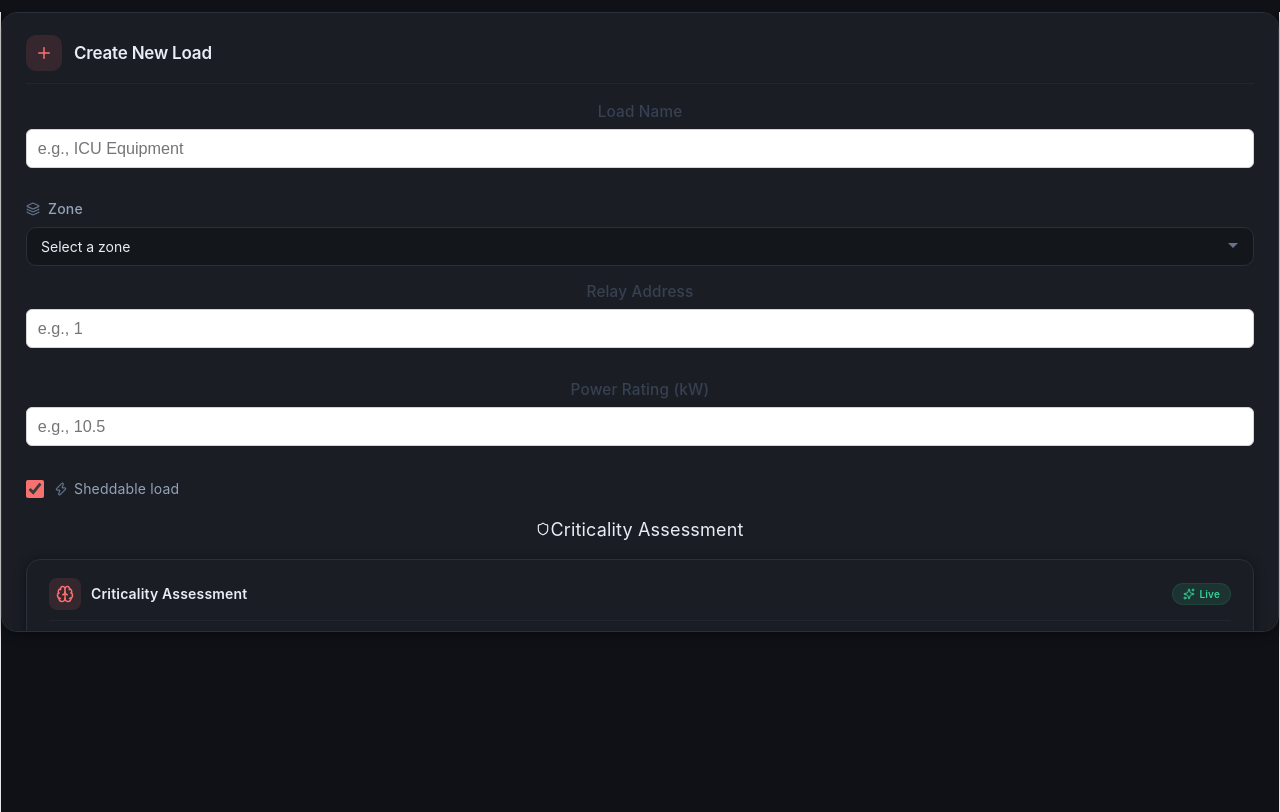
Scenario: LoadForm error handling › renders the conflicting load's name on relay conflict (409)
Type "New Load" into the field with test id "load-name" at coordinates (640, 148), box 26,129 -> 1254,168
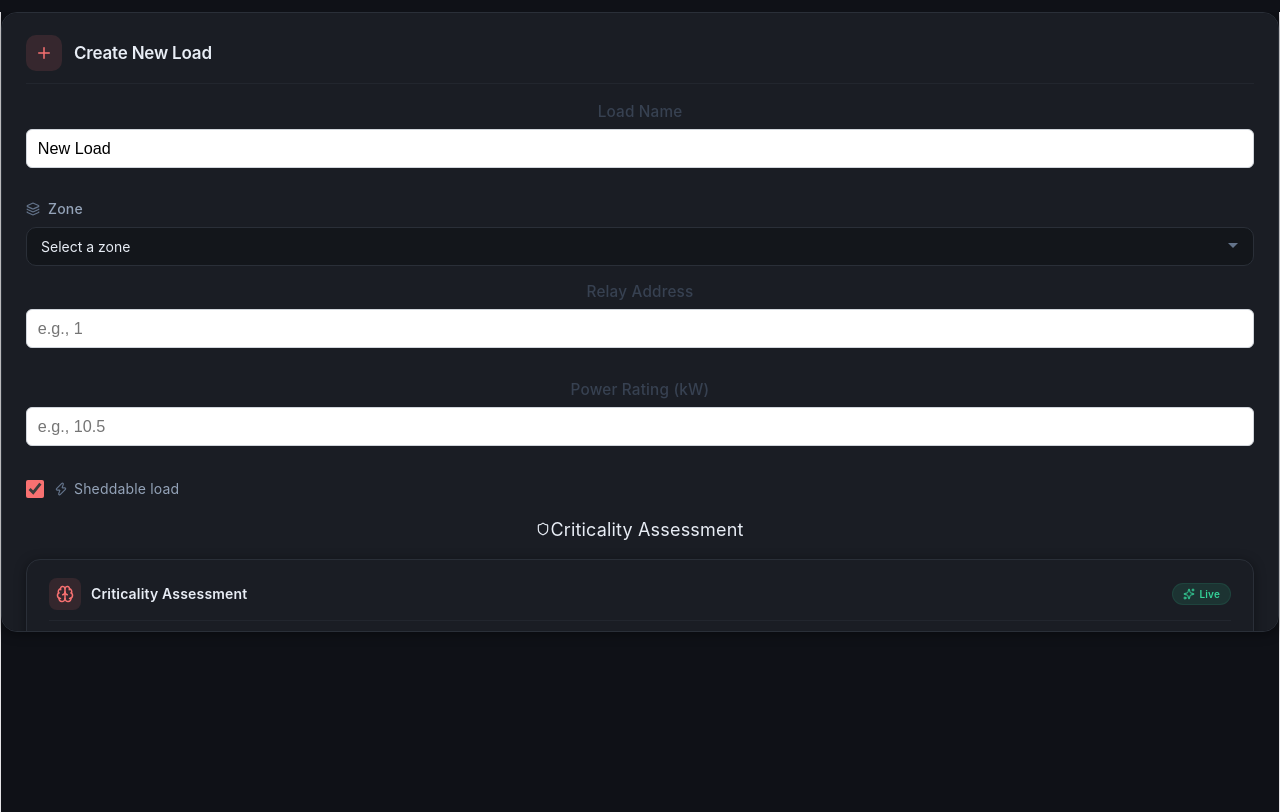
Select "Main Building" in the dropdown with test id "load-zone" at coordinates (640, 246), box 26,226 -> 1254,266
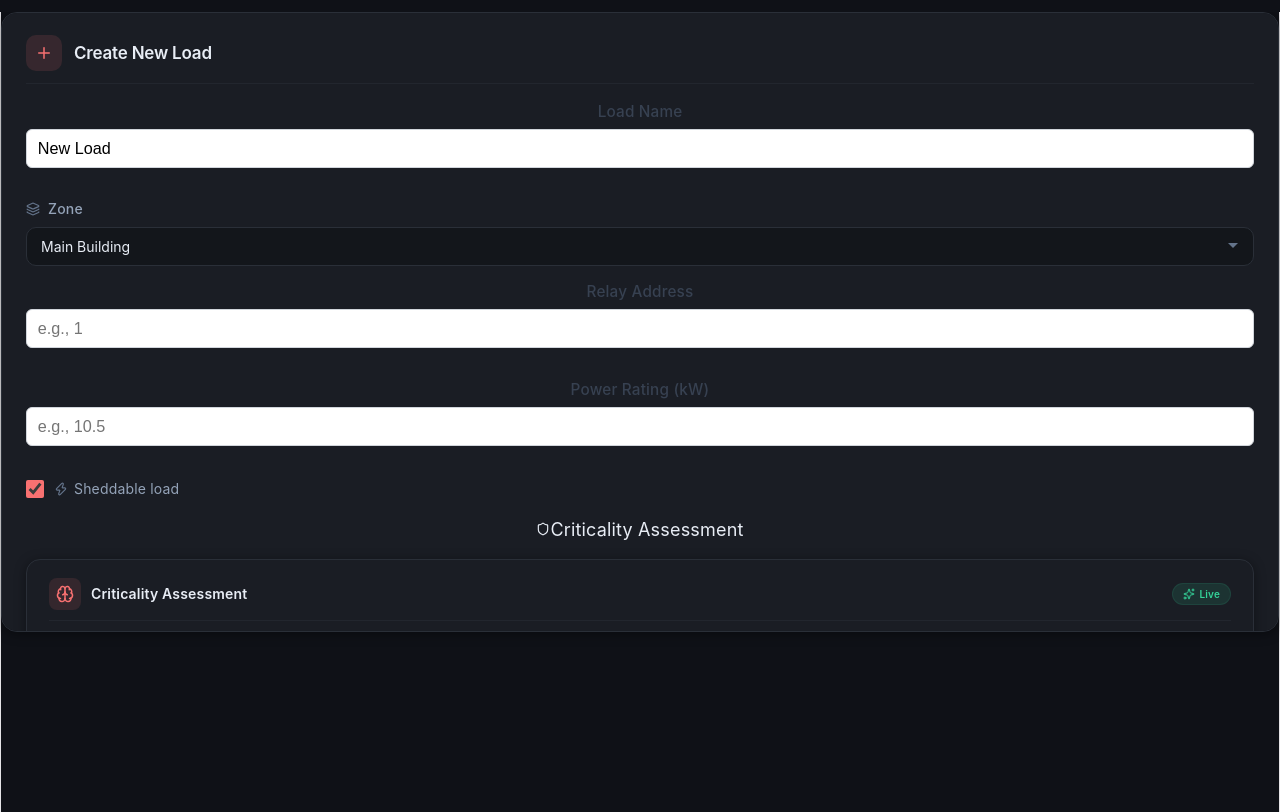
Type "3" into the number field with test id "load-relay-address" at coordinates (640, 328), box 26,308 -> 1254,348
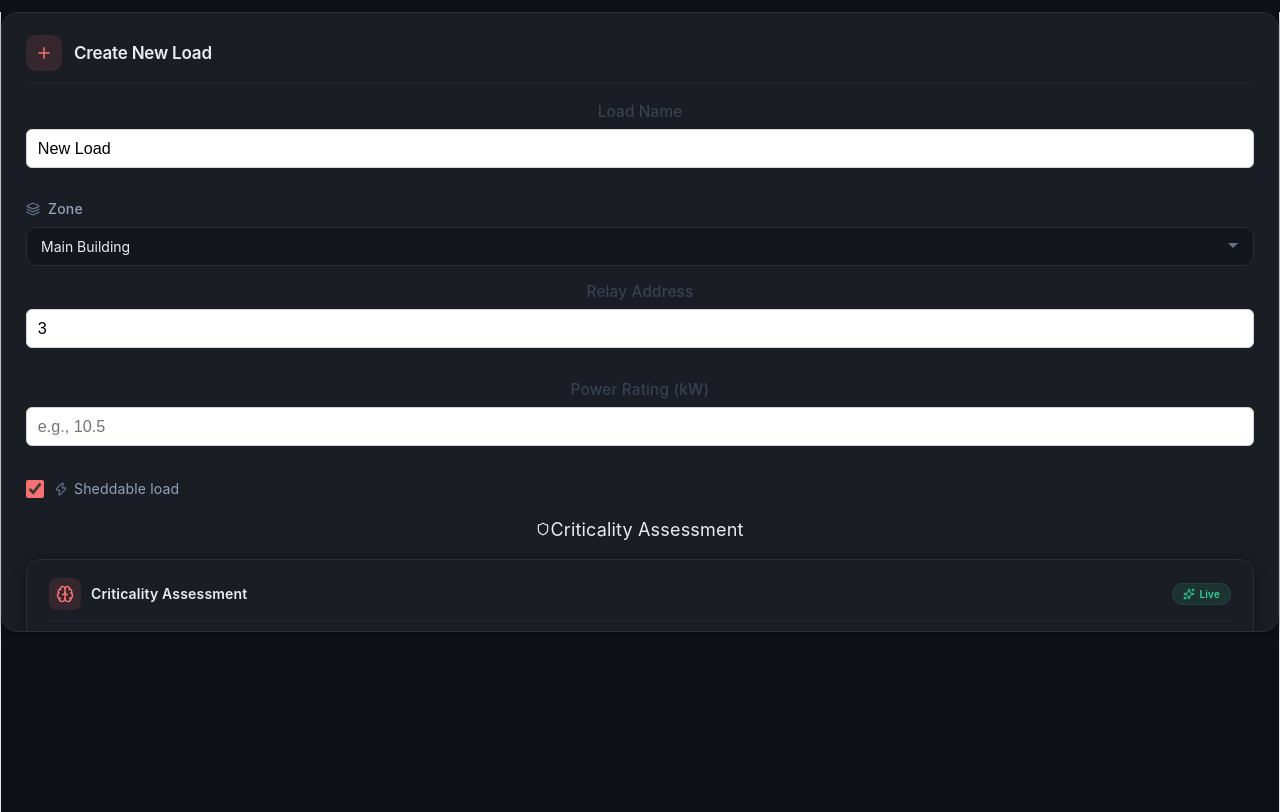
Type "50" into the number field with test id "load-power-rating" at coordinates (640, 426), box 26,407 -> 1254,446
(page scrolled)
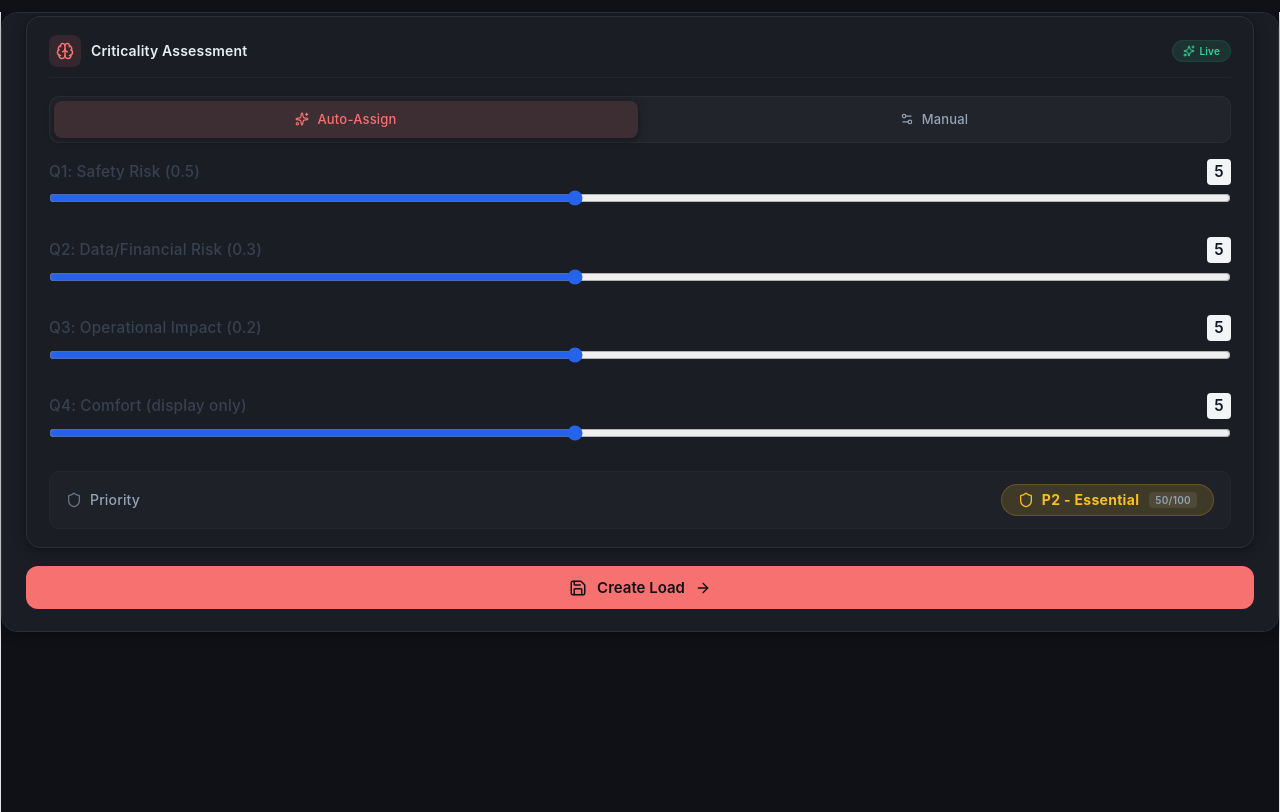
Click the button with test id "save-button" at coordinates (640, 588), box 26,566 -> 1254,609
(page scrolled)
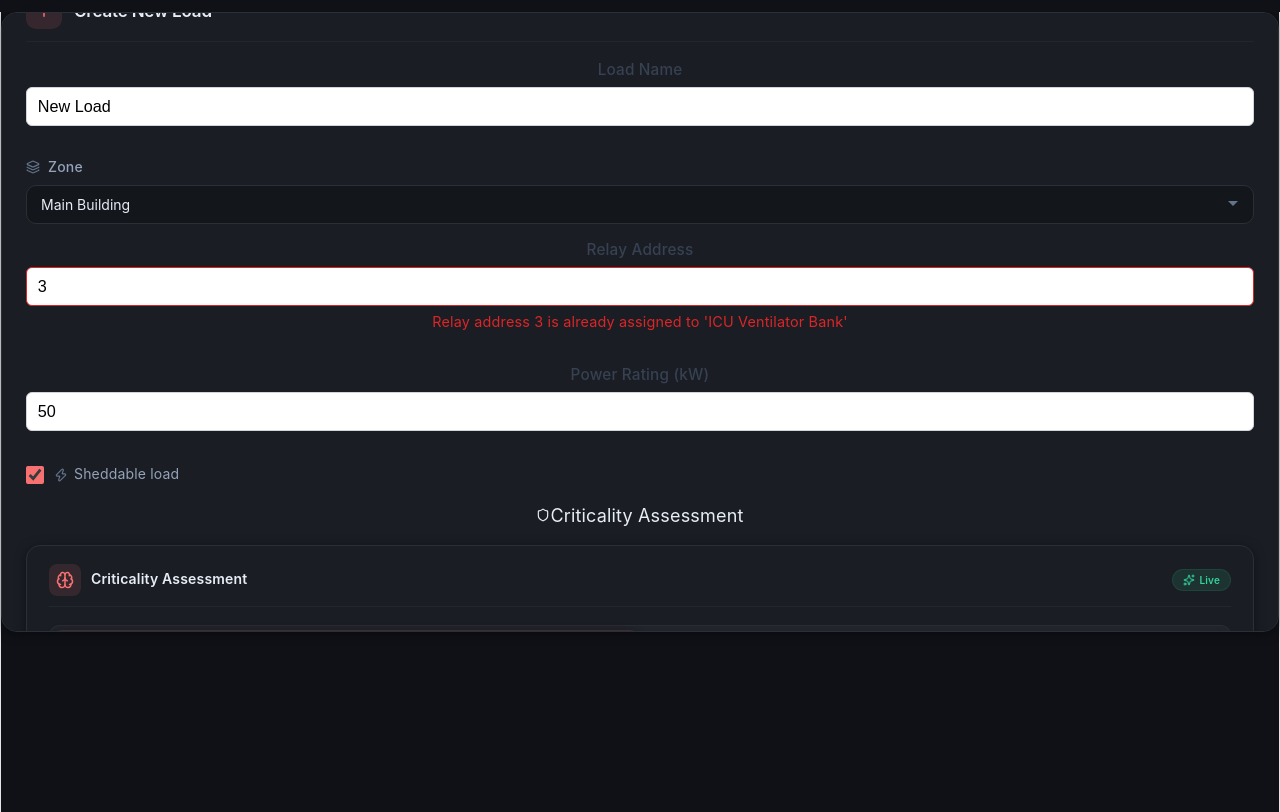
expect the text "Relay address 3 is already assigned to 'ICU Ventilator Bank'" is shown: met, box 432,313 -> 848,330
